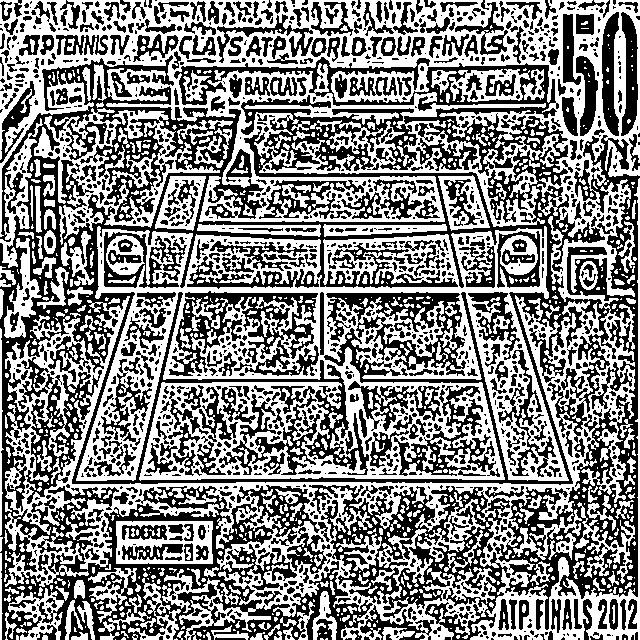left side: (73, 174, 208, 483), (436, 174, 571, 483)
player: (313, 343, 390, 473), (220, 97, 264, 187)
